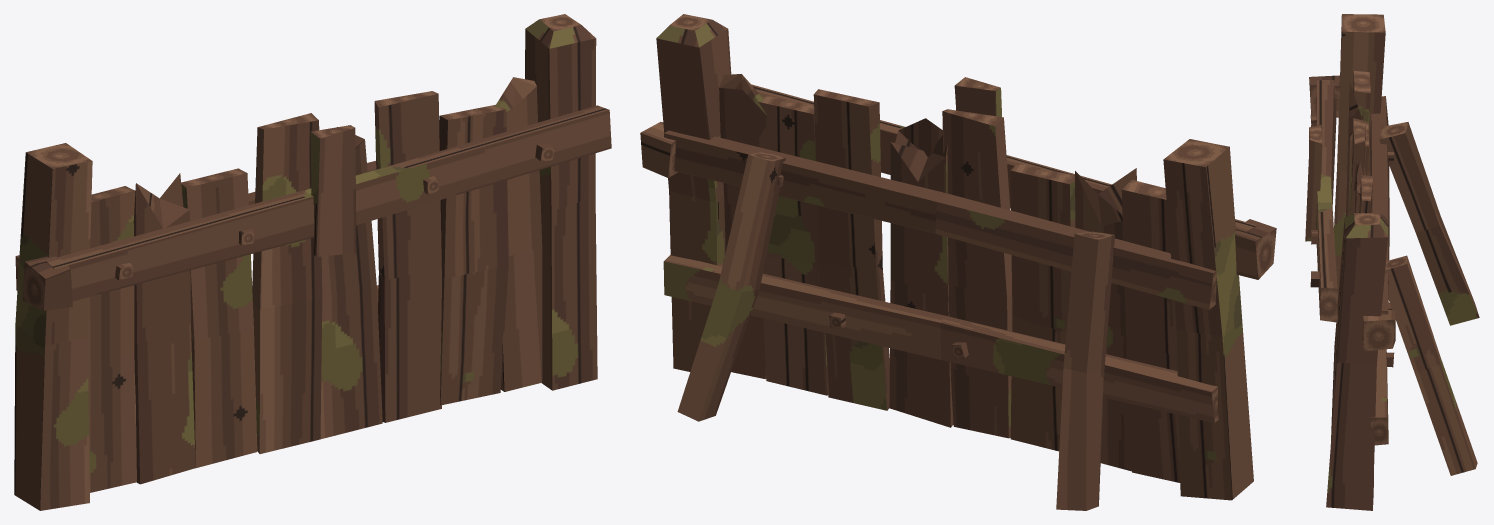
File: SM_AN18_Barricade.fbx
3 renders of one model, left to right at view 1: azimuth 30°, elevation 25°; view 2: azimuth 150°, elevation 25°; view 3: azimuth 270°, elevation 25°, orthographic. The views are drawn at different scales.
Visible parts, largest first — view 1: AN18a_Wood, AN18a_Props; view 2: AN18a_Wood, AN18a_Props; view 3: AN18a_Wood, AN18a_Props.
Boxes of the visible parts, box(x1,y1,x2,y2) form: AN18a_Wood: box(14, 19, 611, 510); AN18a_Props: box(15, 14, 580, 310); AN18a_Wood: box(640, 20, 1276, 510); AN18a_Props: box(668, 14, 1276, 422); AN18a_Wood: box(1305, 15, 1479, 510); AN18a_Props: box(1309, 14, 1408, 445).
Size of the model in its own units: 2.61 by 1.49 by 0.8132.
